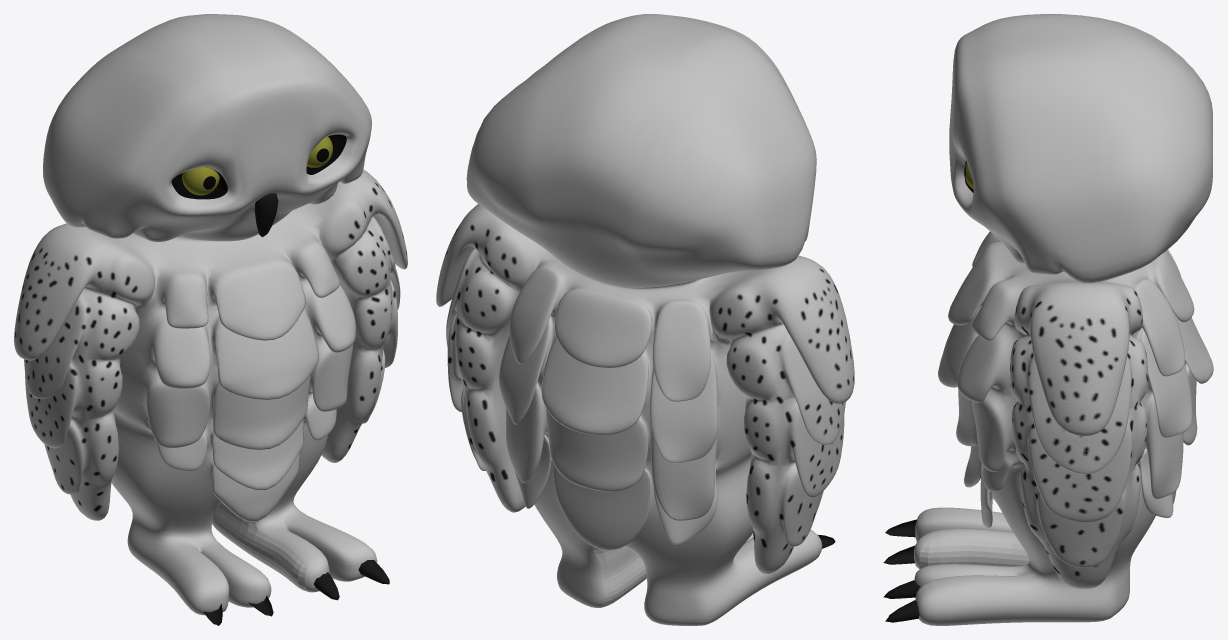
Rendered from owl.glb.
The picture shows the model from 3 angles, left to right: view 1: azimuth 30°, elevation 25°; view 2: azimuth 150°, elevation 25°; view 3: azimuth 270°, elevation 25°; orthographic projection. The views are drawn at different scales.
Parts seen in each view (by area): view 1: Cube_Cube.002, Cube.002_Cube.005, Sphere, Cube.001; view 2: Cube_Cube.002; view 3: Cube_Cube.002, Cube.002_Cube.005.
Boxes of the visible parts, x1=… form: Cube_Cube.002: x1=14, y1=14, x2=407, y2=615; Cube.002_Cube.005: x1=203, y1=560, x2=389, y2=625; Sphere: x1=182, y1=167, x2=219, y2=195; Cube.001: x1=254, y1=193, x2=278, y2=237; Cube_Cube.002: x1=436, y1=14, x2=854, y2=625; Cube_Cube.002: x1=914, y1=14, x2=1213, y2=625; Cube.002_Cube.005: x1=883, y1=519, x2=920, y2=622.
Size of the model in its own units: 6.96 by 9.1 by 4.9.
Materials: 4 (1 with a texture image).
